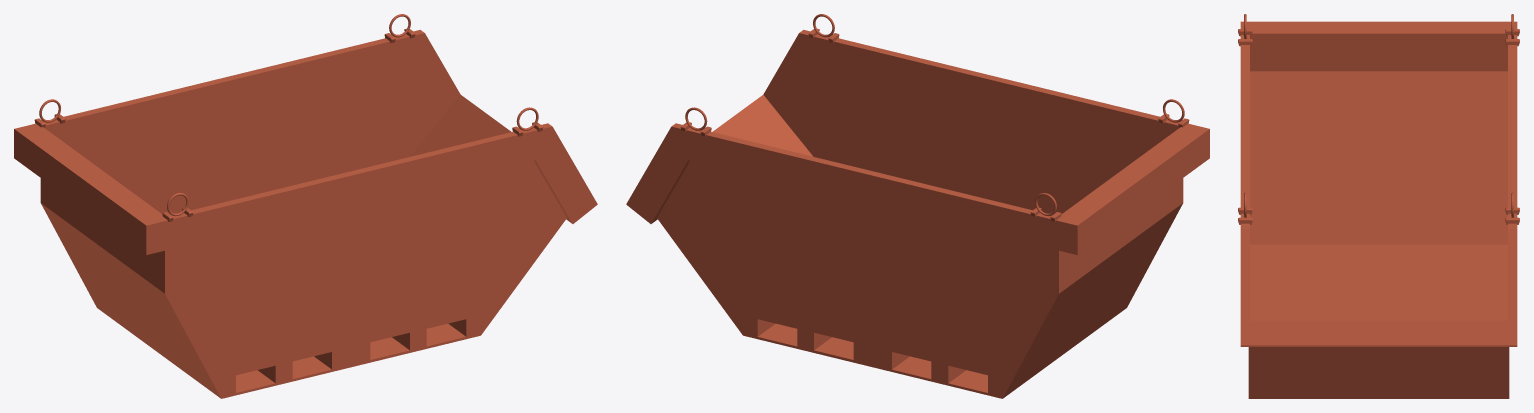
The model's file is LangenbergerMulde3D.dae.
3 views of the same model, side by side, from view 1: azimuth 30°, elevation 25°; view 2: azimuth 150°, elevation 25°; view 3: azimuth 270°, elevation 25° (orthographic). The views are drawn at different scales.
Visible parts, largest first — view 1: node0; view 2: node0; view 3: node0.
Boxes of the visible parts, bbox=[...] form: node0: bbox=[14, 14, 597, 398]; node0: bbox=[626, 14, 1209, 398]; node0: bbox=[1238, 14, 1519, 398].
Size of the model in its own units: 4 by 2.07 by 1.85.
